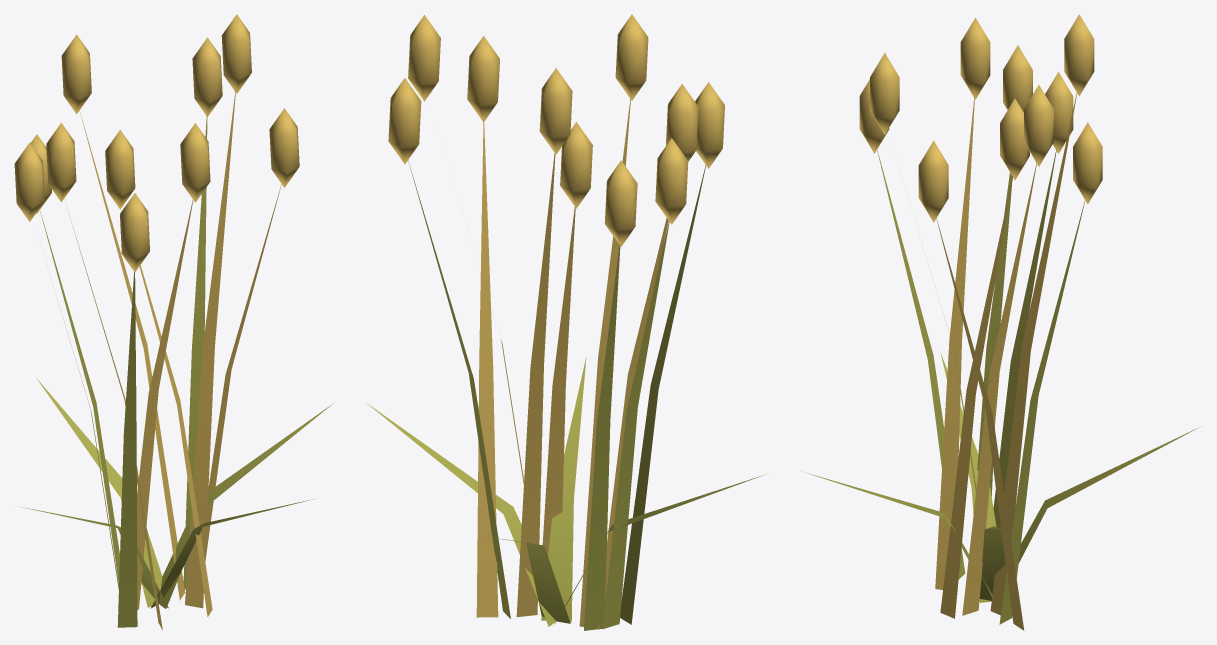
File: crop_wheat.glb
3 views of the same model, side by side, from view 1: azimuth 30°, elevation 25°; view 2: azimuth 150°, elevation 25°; view 3: azimuth 270°, elevation 25° (orthographic). The views are drawn at different scales.
Visible parts, largest first — view 1: crop_wheat; view 2: crop_wheat; view 3: crop_wheat.
Boxes of the visible parts, <box> form: crop_wheat: <box>14,14,333,630</box>; crop_wheat: <box>367,14,765,630</box>; crop_wheat: <box>802,14,1201,630</box>.
Size of the model in its own units: 0.708 by 1.07 by 0.6903.
